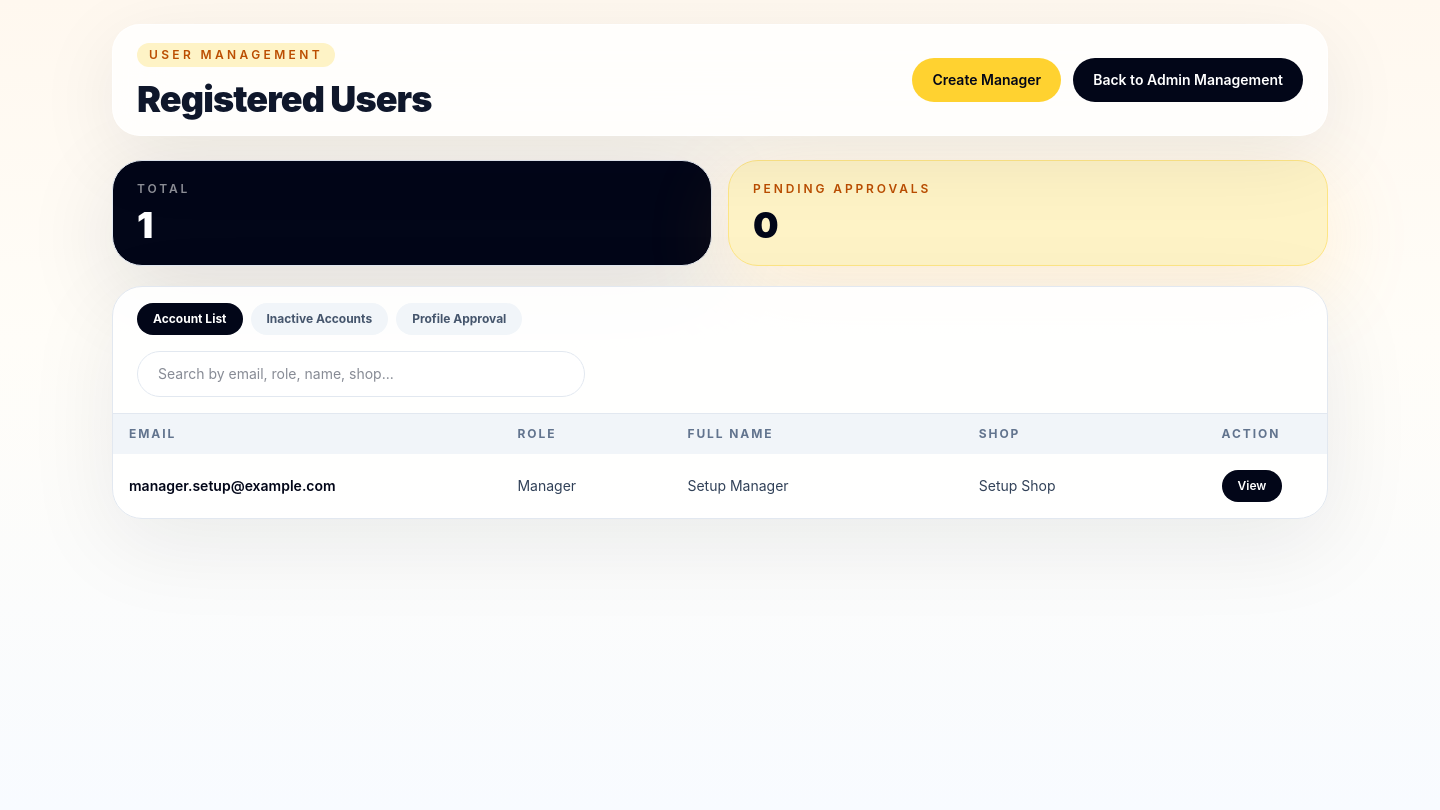
UserManagement › reveals a regenerated initial password otp for a manager in the user modal
Expected: the text "manager.setup@example.com" is shown, [113,454,502,518]
Click the button "View" at (1252, 486), box [1222,470,1282,502]
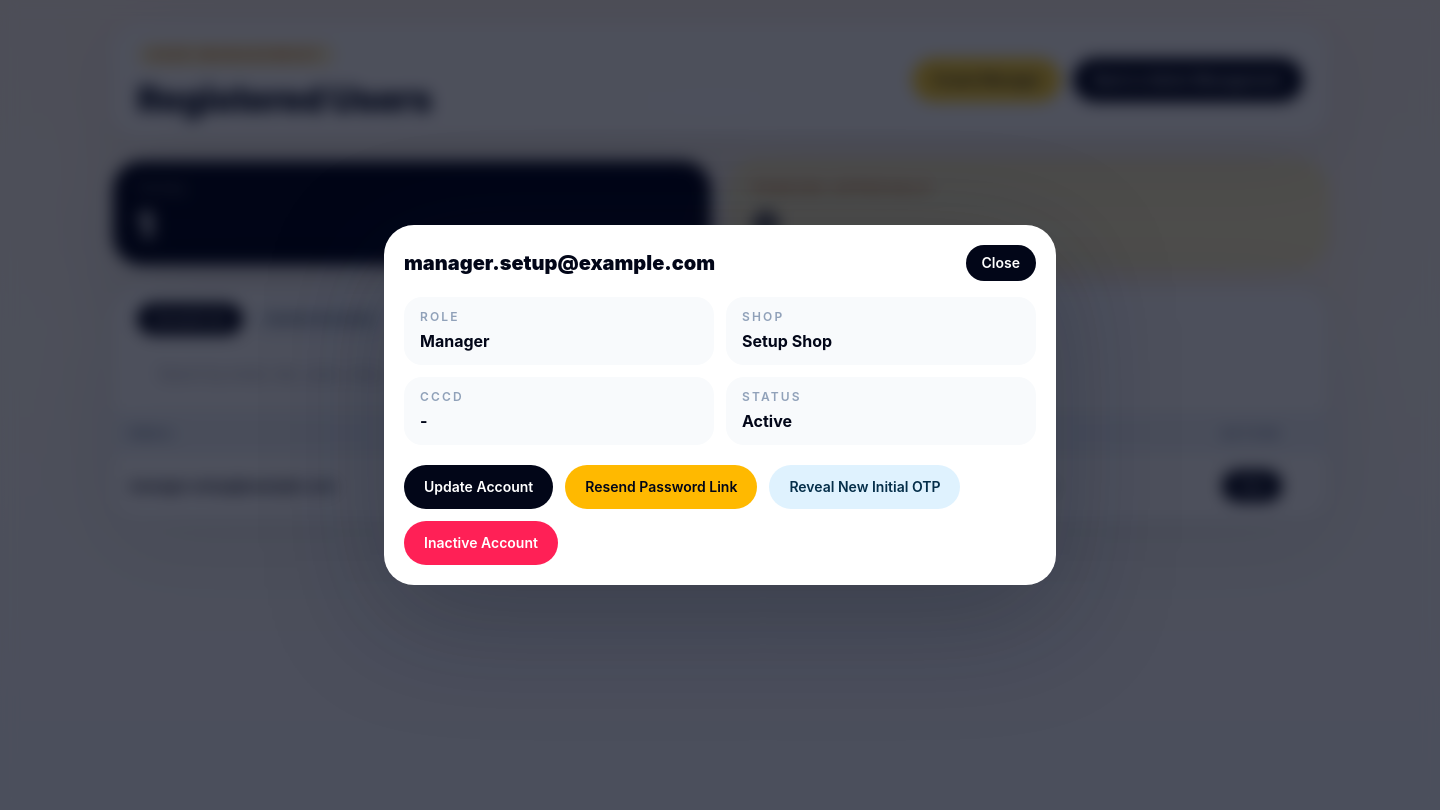
Click the button "Reveal New Initial OTP" at (865, 487), box [769,465,960,509]
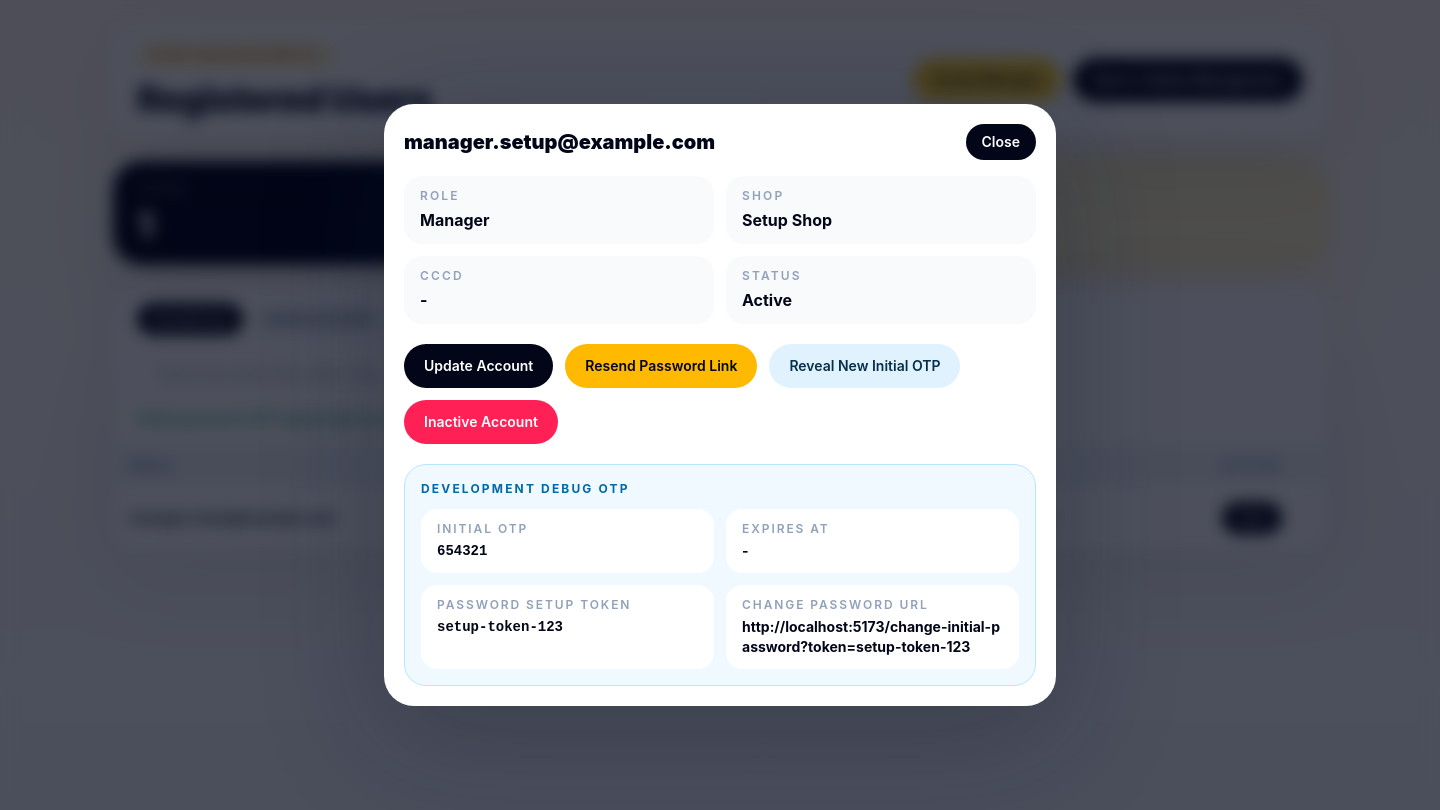
Now the text "654321" is shown, box [437,543,487,559]
Now the text "setup-token-123" is shown, box [437,619,563,635]
Now the text "change-initial-password?token=setup-token-123" is shown, box [742,618,1000,655]
